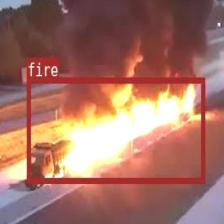fire: (27, 77, 204, 182)
